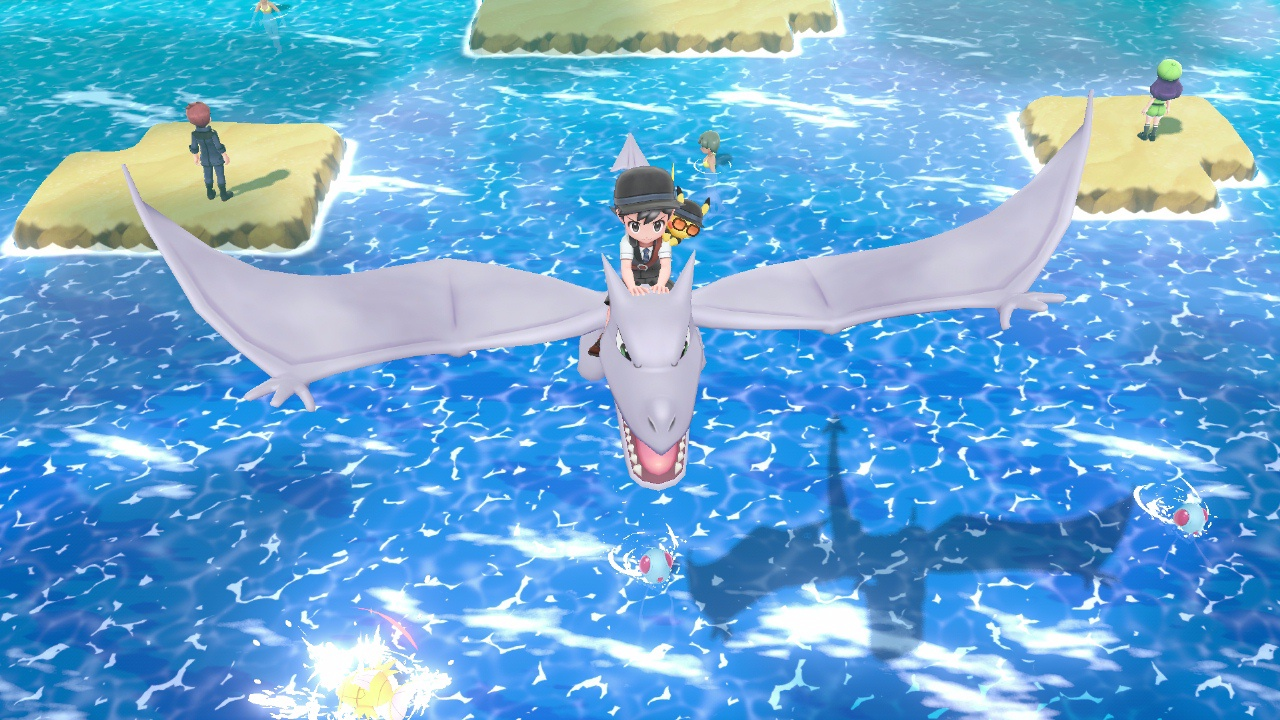Golden: (308, 633, 428, 720)
